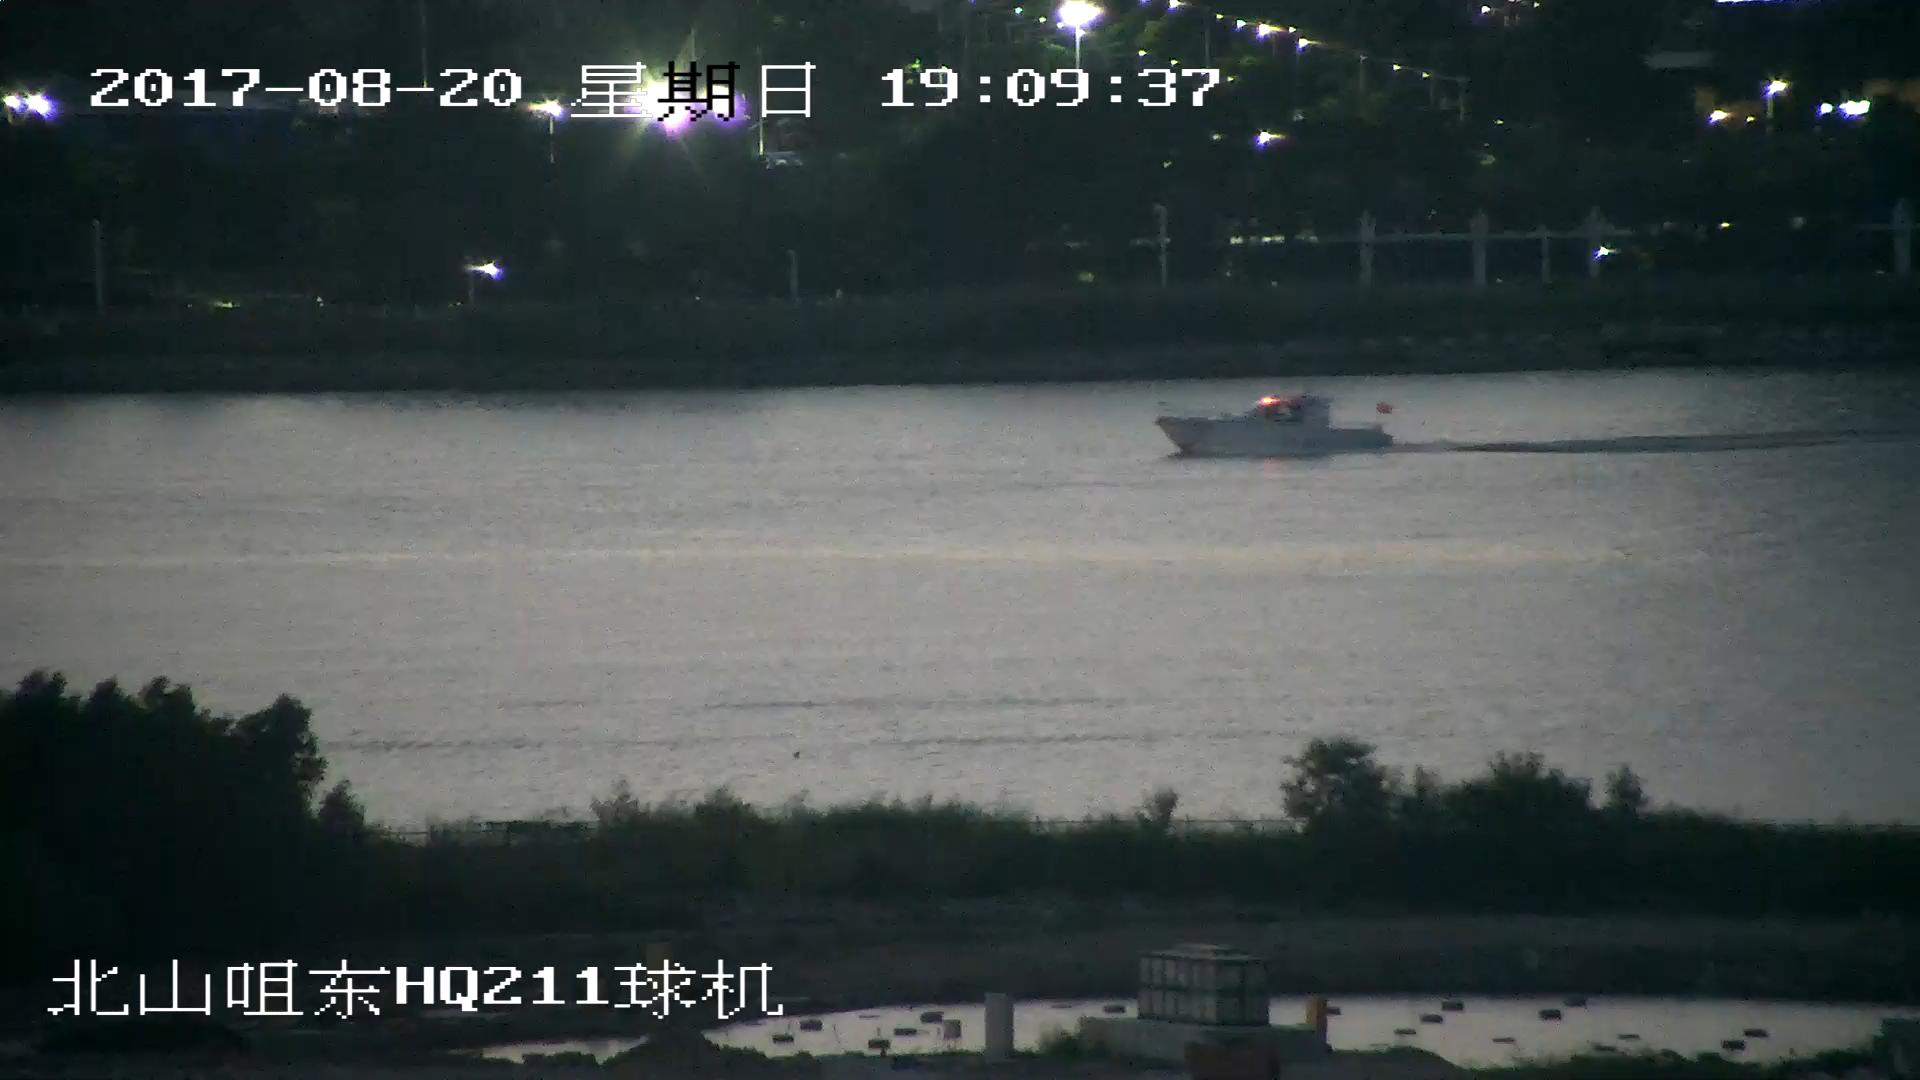passenger ship: (1155, 393, 1400, 457)
